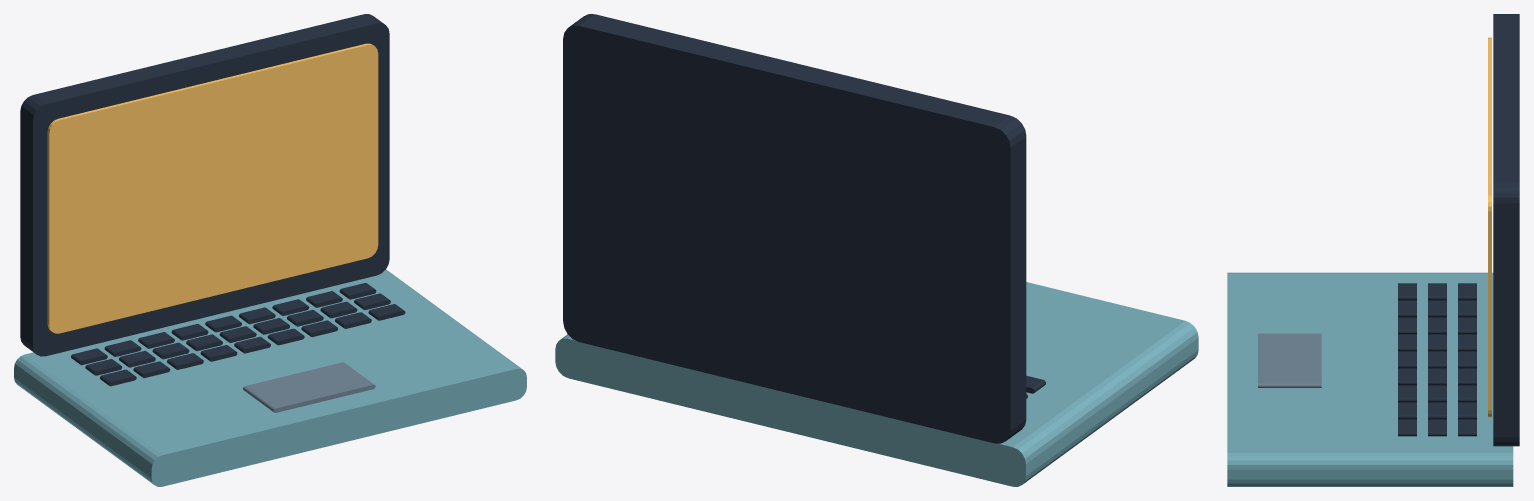
The model's file is laptop.glb.
3 renders of one model, left to right at view 1: azimuth 30°, elevation 25°; view 2: azimuth 150°, elevation 25°; view 3: azimuth 270°, elevation 25°, orthographic. The views are drawn at different scales.
Visible parts, largest first — view 1: display glass, base, display bezel, trackpad; view 2: display bezel, base; view 3: base, display bezel, trackpad, display glass, key 0-0, key 0-1, key 0-2, key 0-3, key 0-4, key 0-5, key 0-6, key 0-7 (+19 smaller).
Part boxes in pixels (<box>): display glass: <box>47,43,378,333</box>; base: <box>14,269,526,486</box>; display bezel: <box>20,14,389,356</box>; trackpad: <box>243,362,375,412</box>; display bezel: <box>563,14,1026,443</box>; base: <box>555,282,1198,486</box>; base: <box>1227,272,1513,486</box>; display bezel: <box>1493,14,1519,446</box>; trackpad: <box>1258,333,1321,387</box>; display glass: <box>1488,37,1491,417</box>; key 0-0: <box>1458,283,1476,300</box>; key 0-1: <box>1458,300,1476,317</box>; key 0-2: <box>1458,317,1476,334</box>; key 0-3: <box>1458,334,1476,351</box>; key 0-4: <box>1458,351,1476,368</box>; key 0-5: <box>1458,368,1476,385</box>; key 0-6: <box>1458,385,1476,402</box>; key 0-7: <box>1458,402,1476,419</box>.
Bounding box in the file's own units: 1.62 × 1.18 × 1.05.
